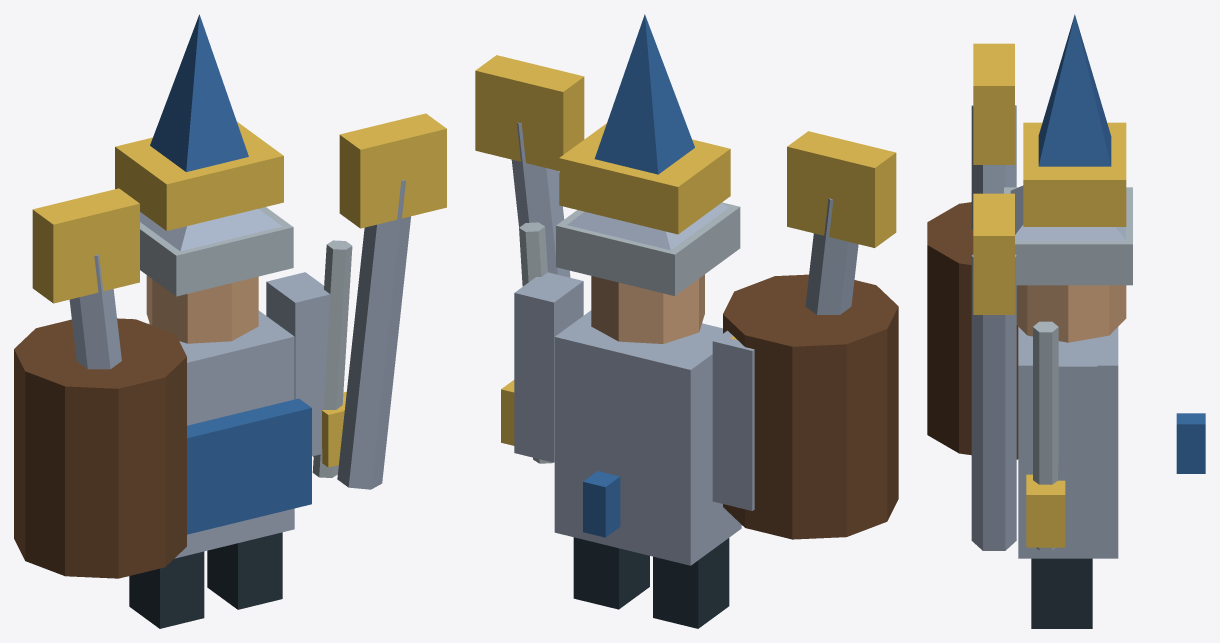
The model's file is raider.obj.
The picture shows the model from 3 angles, left to right: view 1: azimuth 30°, elevation 25°; view 2: azimuth 150°, elevation 25°; view 3: azimuth 270°, elevation 25°; orthographic projection.
Visible parts, largest first — view 1: infantry; view 2: infantry; view 3: infantry.
Part boxes in pixels (bbox=[...]): infantry: bbox=[14, 14, 446, 628]; infantry: bbox=[475, 14, 898, 628]; infantry: bbox=[927, 14, 1205, 628].
Size of the model in its own units: 1.44 by 2 by 0.8618.
